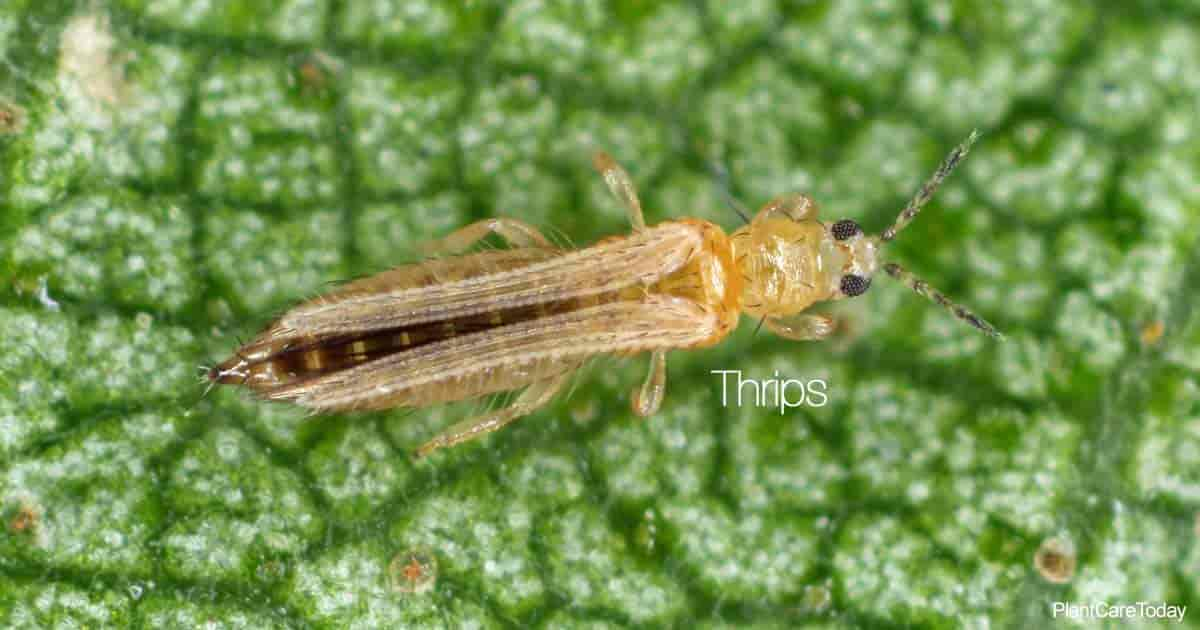Thrips: (245, 141, 992, 447)
